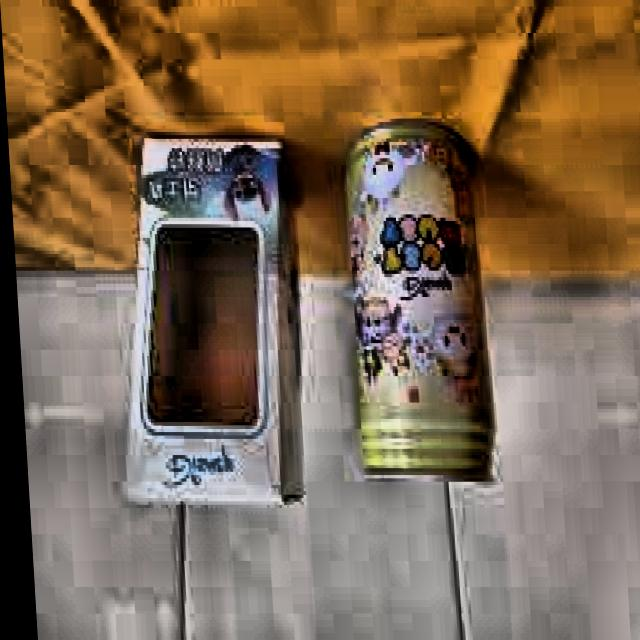can: (330, 110, 498, 497)
